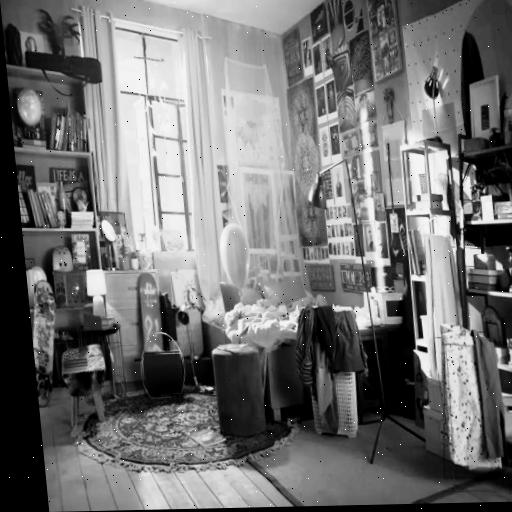balloon: (219, 224, 254, 293)
